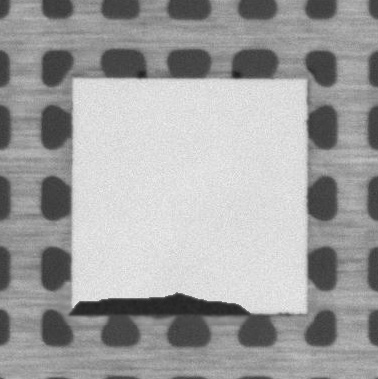DIE_BROKEN: (70, 291, 252, 316)
